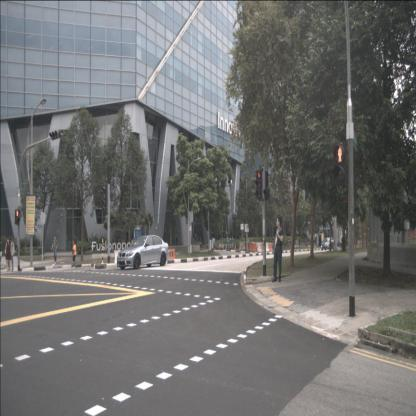barrier: (114, 250, 125, 264), (166, 249, 175, 259), (239, 242, 248, 251), (248, 242, 256, 251), (257, 243, 262, 252), (268, 243, 272, 251), (265, 243, 269, 251)
